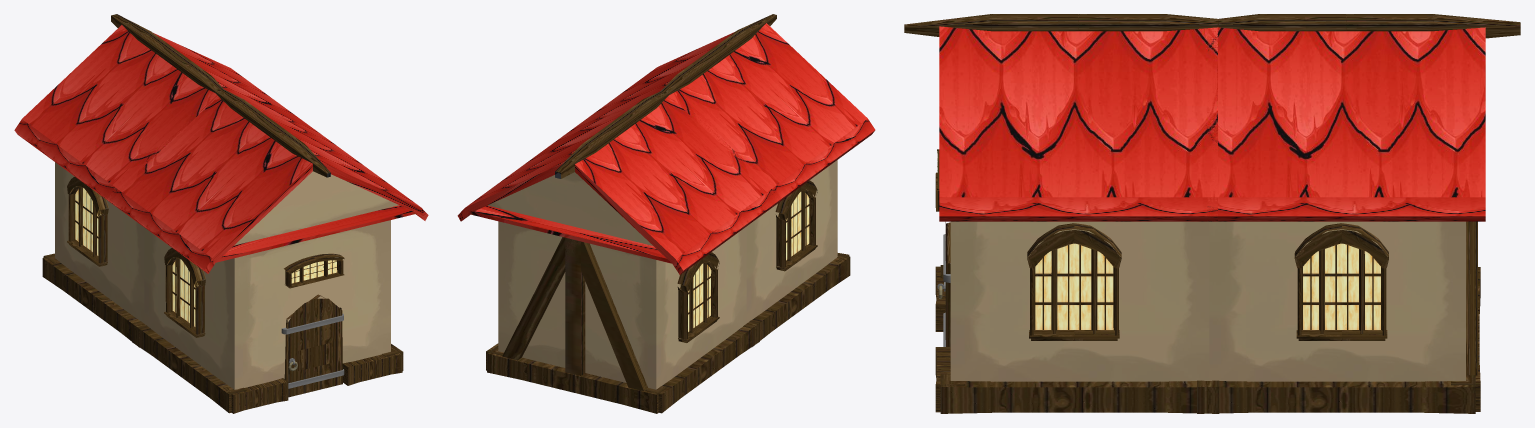
File: house_chesburg_2.glb
The picture shows the model from 3 angles, left to right: view 1: azimuth 30°, elevation 25°; view 2: azimuth 150°, elevation 25°; view 3: azimuth 270°, elevation 25°; orthographic projection. The views are drawn at different scales.
Visible parts, largest first — view 1: Cube.014, Cube.019, Cube.013, Cube.016, Cube.020, deur_hout_0.002, Object_6.005, Object_6.003, Object_6.007, deur_ijzer_0.002; view 2: Cube.019, Cube.015, Cube.014, Cube.020, Cube.016, Object_6.005, Object_6.003; view 3: Cube.014, Cube.019, Cube.017, Cube.018, Object_6.004, Object_6.006, Cube.015, Cube.013, deur_hout_0.002.
Part boxes in pixels (x1,y1,x2,y2): Cube.014: (108, 89, 428, 273); Cube.019: (14, 14, 326, 202); Cube.013: (223, 220, 402, 413); Cube.016: (132, 227, 246, 413); Cube.020: (42, 162, 148, 347); deur_hout_0.002: (284, 294, 342, 397); Object_6.005: (67, 177, 108, 266); Object_6.003: (164, 248, 205, 337); Object_6.007: (284, 253, 344, 288); deur_ijzer_0.002: (281, 313, 344, 388); Cube.019: (457, 91, 780, 274); Cube.015: (487, 221, 667, 413); Cube.014: (563, 14, 875, 205); Cube.020: (644, 226, 759, 413); Cube.016: (743, 160, 850, 346); Object_6.005: (677, 252, 719, 342); Object_6.003: (775, 180, 817, 271); Cube.014: (904, 14, 1218, 221); Cube.019: (1207, 14, 1520, 221); Cube.017: (940, 221, 1219, 413); Cube.018: (1197, 221, 1475, 413); Object_6.004: (1294, 223, 1388, 340); Object_6.006: (1027, 223, 1121, 340); Cube.015: (1451, 221, 1480, 411); Cube.013: (935, 266, 965, 412); deur_hout_0.002: (945, 222, 950, 346).
Size of what is drawn, in the model's own units: 6.65 by 6.63 by 11.06.
5 materials, 5 textured.
